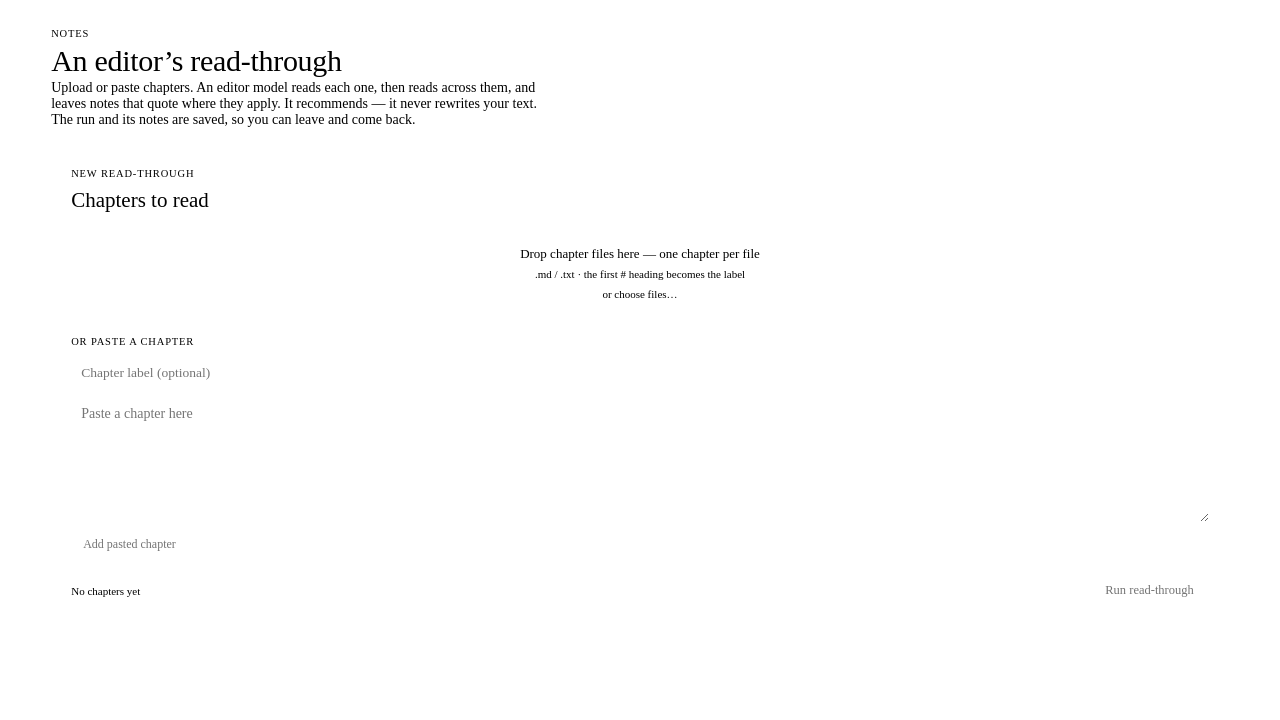
NotesScreen · starting a read-through › shows a 409 detail inline
Type "The Ferry" into the field with placeholder "Chapter label (optional)" at (640,373), box x1=71 y1=358 x2=1209 y2=388
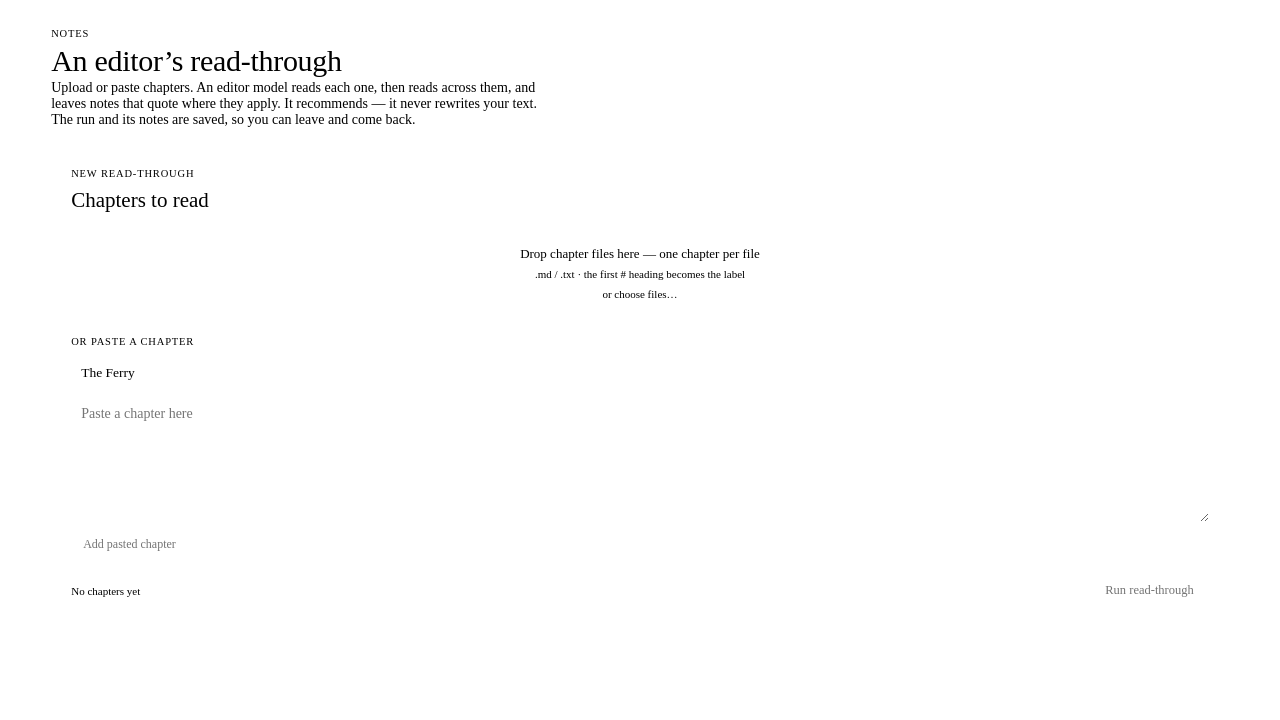
Type "The ferry left at dawn." into the text box with placeholder "Paste a chapter here" at (640,459), box x1=71 y1=396 x2=1209 y2=522
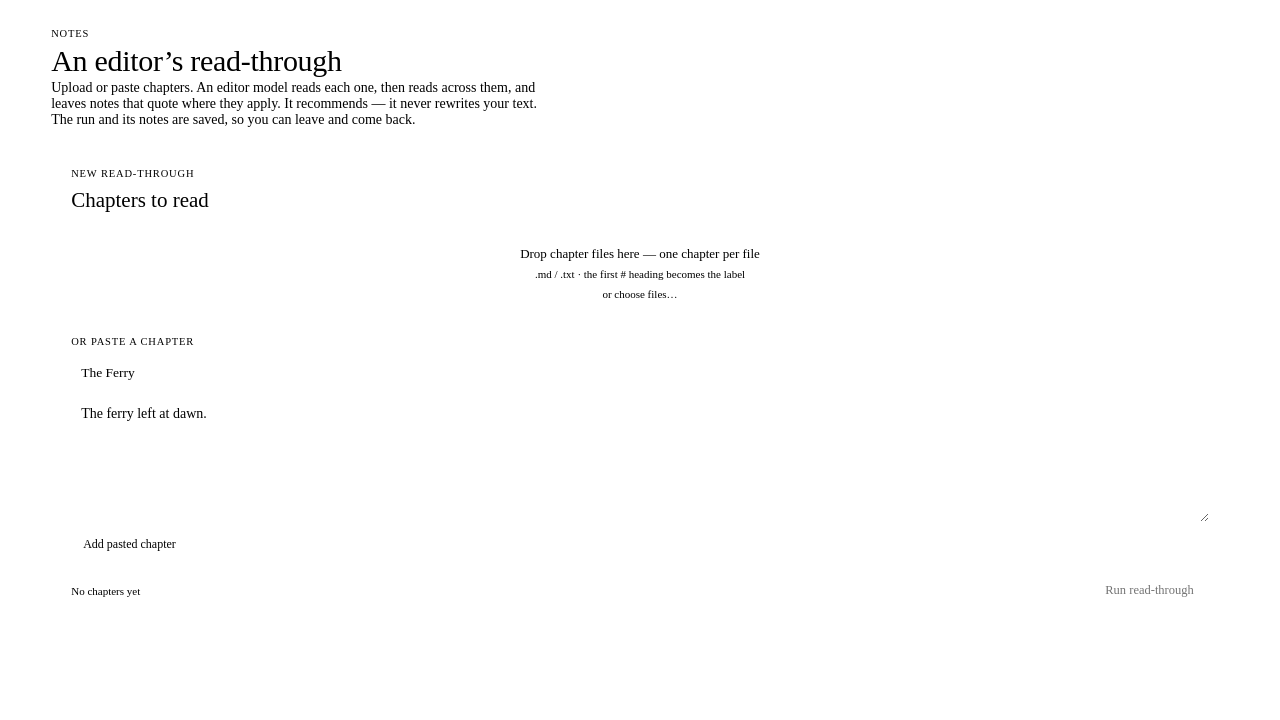
Click the button "Add pasted chapter" at (130,545), box x1=71 y1=530 x2=188 y2=560
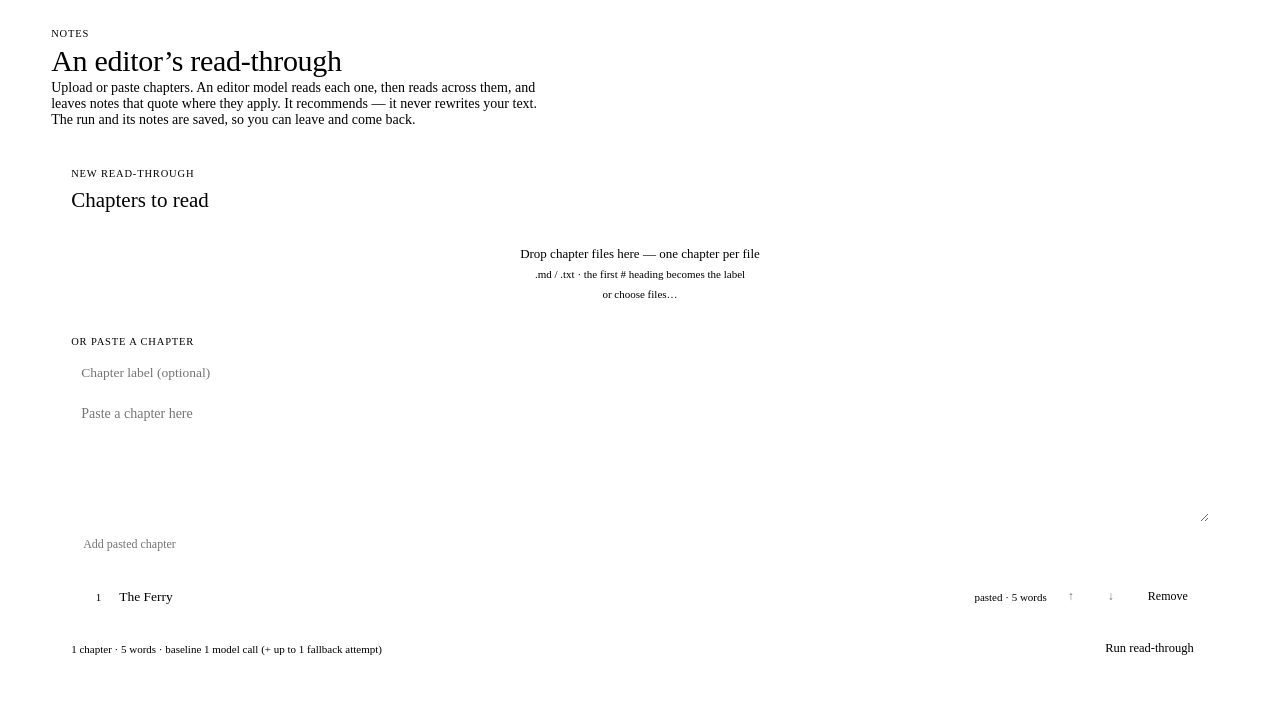
Click the button "Run read-through" at (1150,649), box x1=1090 y1=632 x2=1209 y2=666
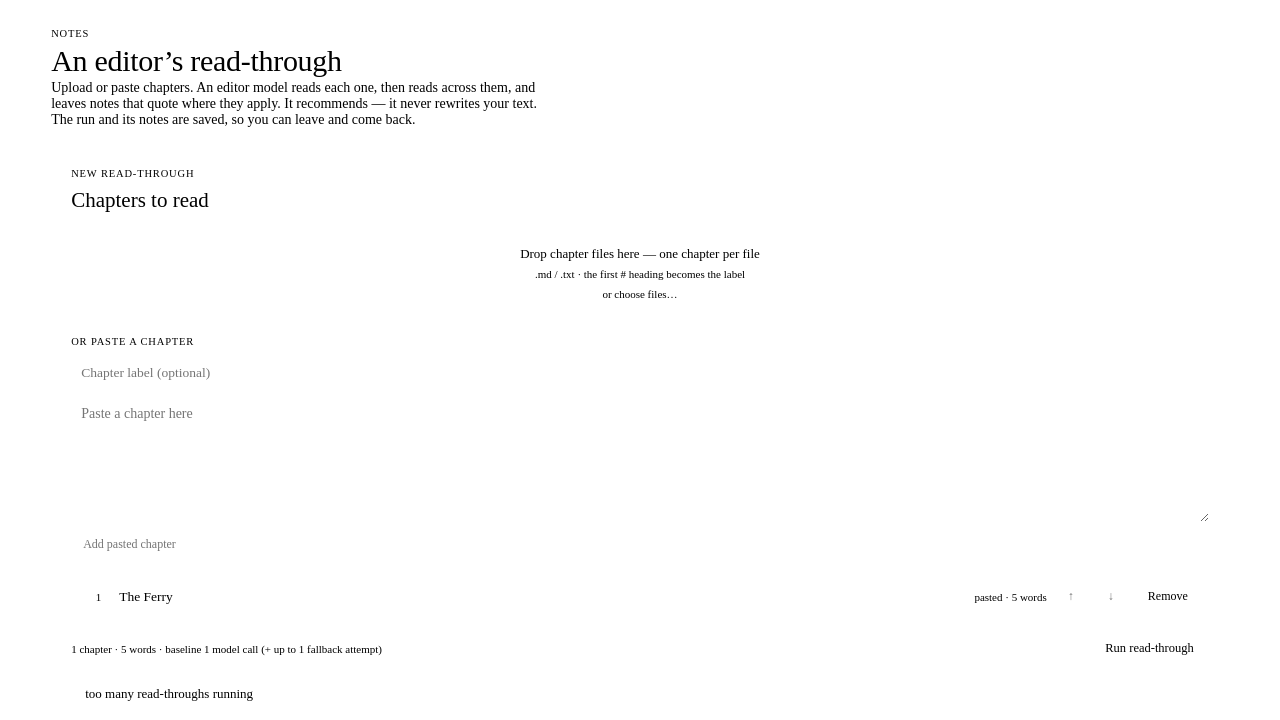
Now the text "too many read-throughs running" is shown, box x1=85 y1=686 x2=253 y2=701
